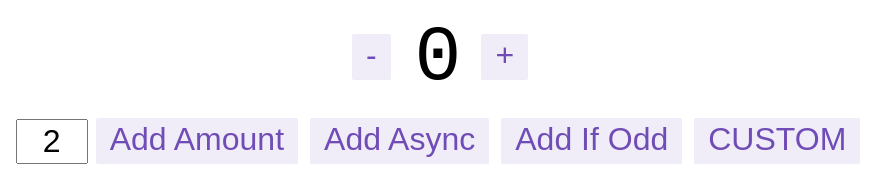
Test: Counter › should render decrement properly
Expected: the text "0" is shown, [415,14,461,102]
What coordinates should you click on to do the following:
click the button "-"
I would click on:
 (371, 57)
Its box is [352,34,391,80].
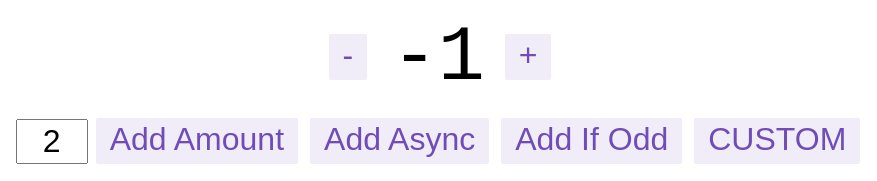
Now the text "-1" is shown, box [391,14,485,102]
